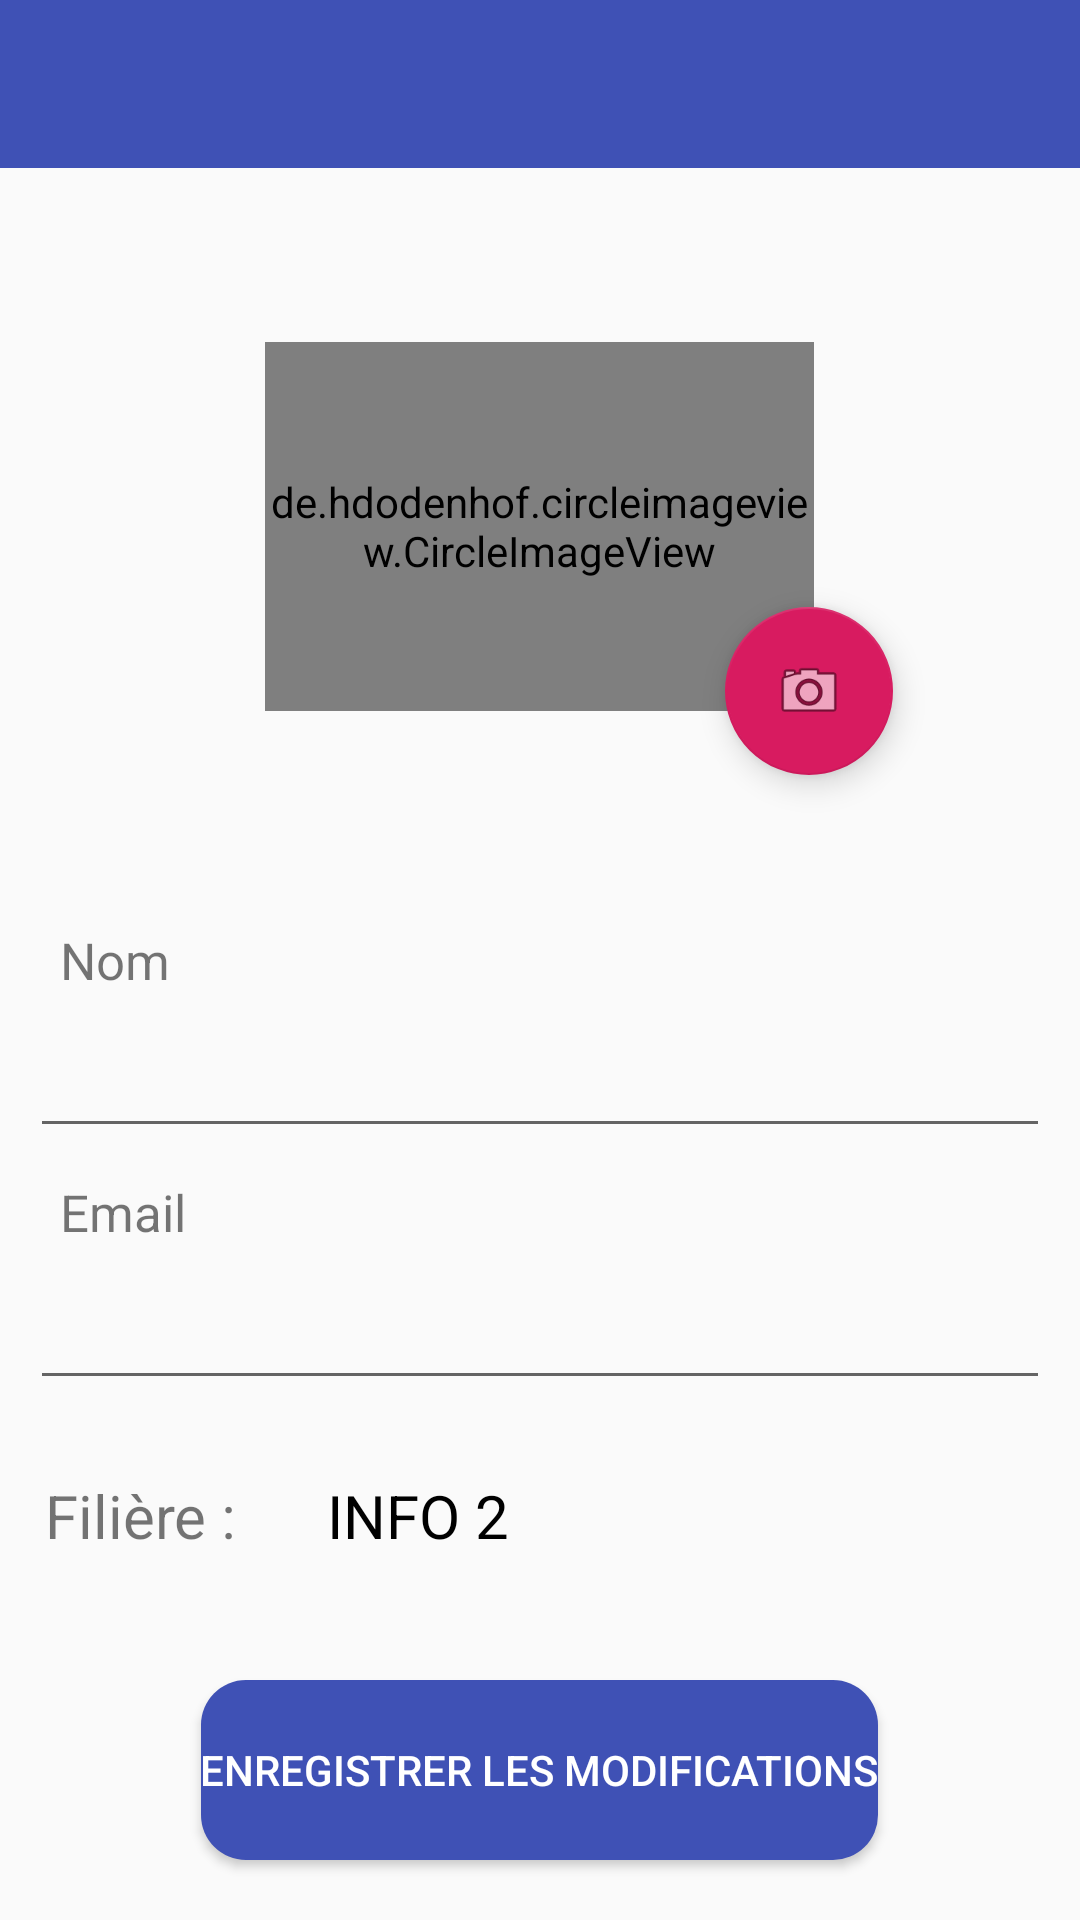

Icon click points for this 1080px x 1920px phone screenshot, format [x,y]:
camera: [809,691]
